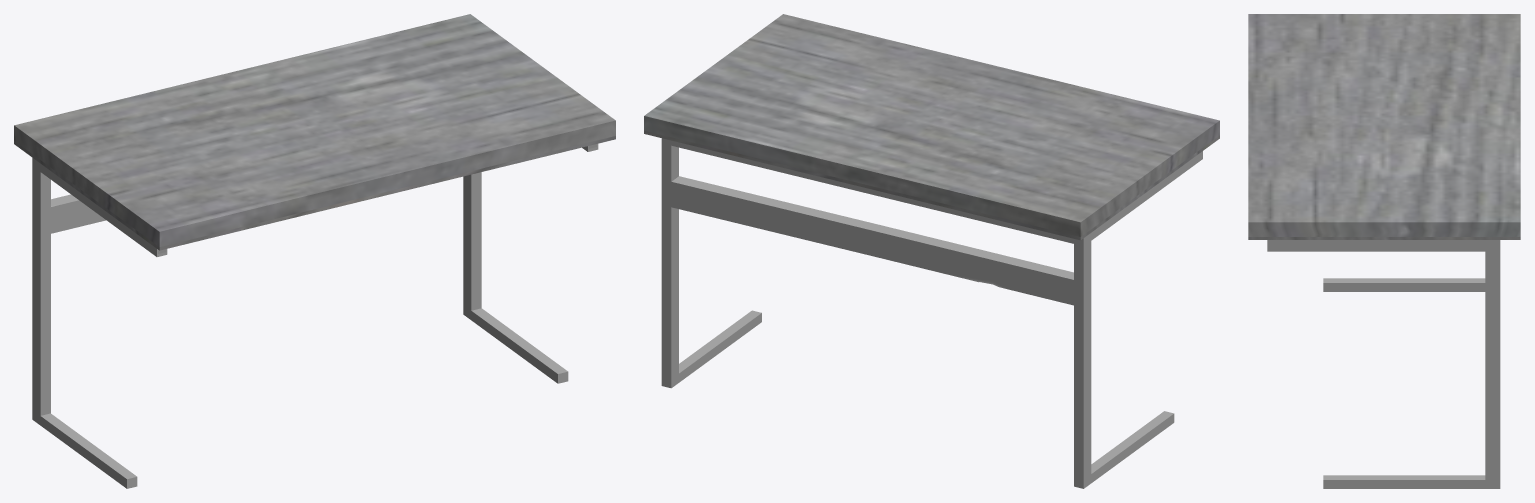
Rendered from desk.fbx.
The picture shows the model from 3 angles, left to right: view 1: azimuth 30°, elevation 25°; view 2: azimuth 150°, elevation 25°; view 3: azimuth 270°, elevation 25°; orthographic projection. The views are drawn at different scales.
Visible parts, largest first — view 1: polySurface1; view 2: polySurface1; view 3: polySurface1.
Part boxes in pixels (x1,y1,x2,y2): polySurface1: (14, 14, 615, 488); polySurface1: (644, 14, 1219, 488); polySurface1: (1248, 14, 1520, 488).
Bounding box in the file's own units: 15.19 × 9.17 × 8.39.
Materials: 2 (1 with a texture image).
